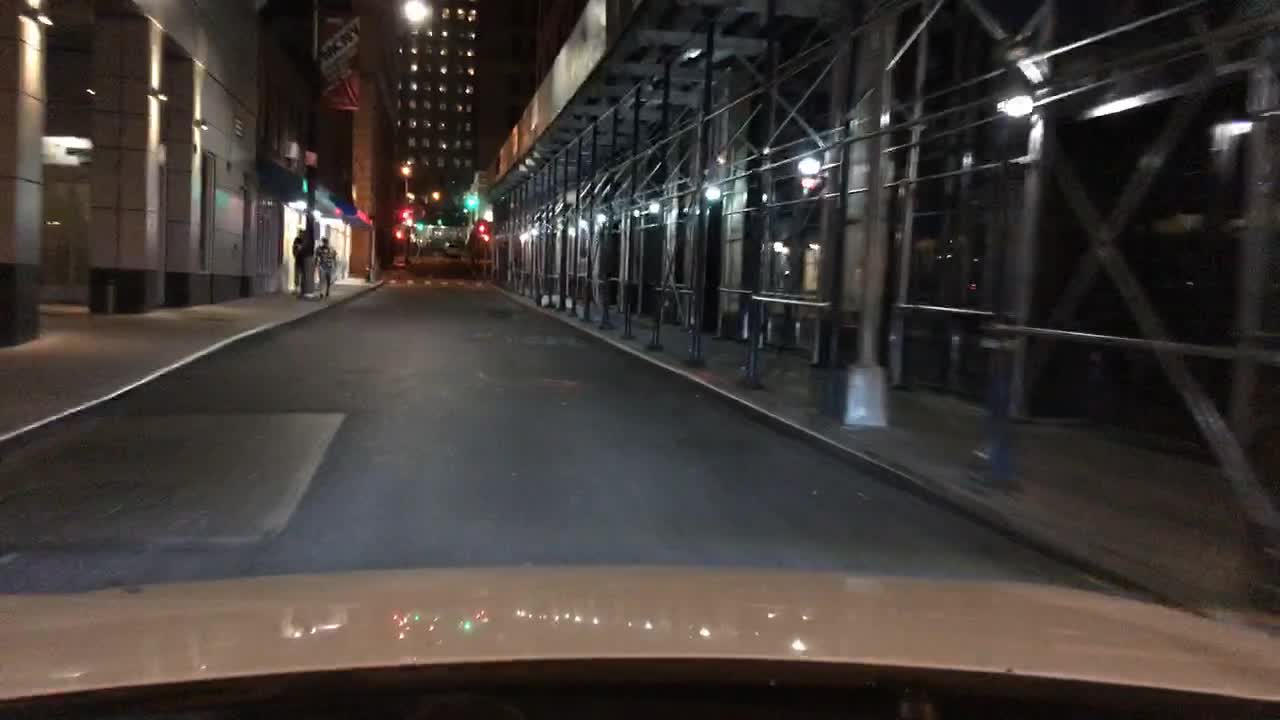car: (442, 242, 463, 260), (440, 238, 457, 251)
person: (310, 235, 339, 305), (288, 227, 307, 299)
traffic light: (473, 221, 487, 233), (398, 208, 410, 221), (464, 196, 476, 208), (413, 221, 425, 232)
traffic sign: (301, 149, 319, 169), (404, 191, 418, 202)
